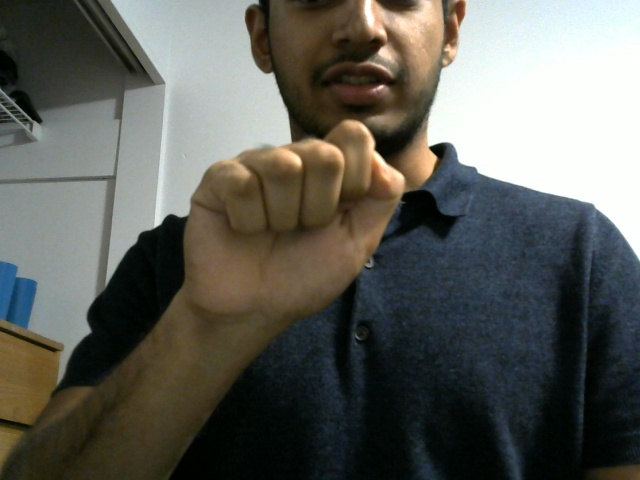A: (178, 107, 408, 311)
